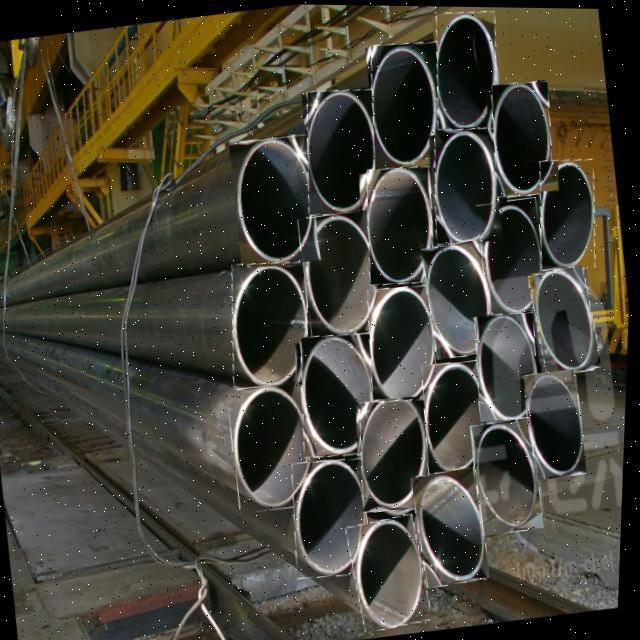pipe: (230, 133, 322, 269), (229, 381, 319, 513), (299, 209, 385, 339), (350, 512, 436, 631), (235, 261, 311, 391), (415, 466, 494, 587), (296, 458, 374, 578), (371, 41, 443, 169), (304, 332, 378, 456), (424, 238, 500, 358), (308, 89, 378, 214), (474, 416, 548, 534), (370, 285, 441, 404), (478, 196, 550, 312), (530, 264, 604, 376), (368, 166, 436, 284), (364, 397, 434, 510), (426, 360, 492, 478), (436, 127, 501, 243), (437, 11, 498, 131), (493, 80, 555, 196), (478, 311, 542, 422), (528, 367, 590, 478), (542, 158, 598, 269)
